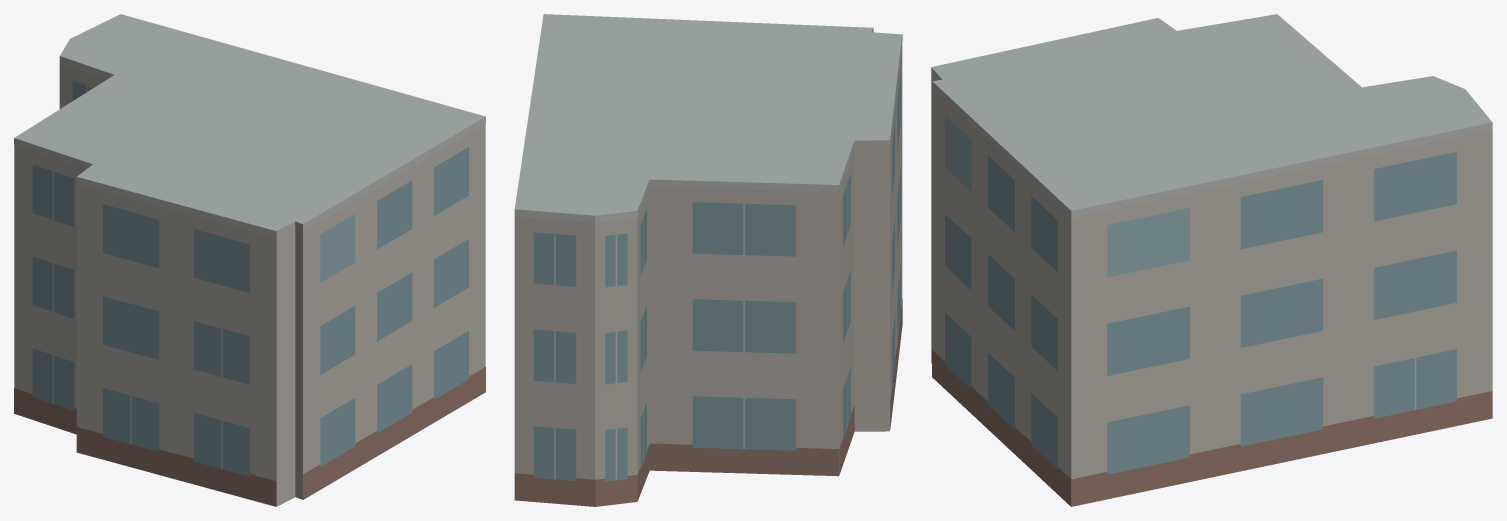
File: survey-upis-32898759.glb
The picture shows the model from 3 angles, left to right: view 1: azimuth 30°, elevation 25°; view 2: azimuth 150°, elevation 25°; view 3: azimuth 270°, elevation 25°; orthographic projection. The views are drawn at different scales.
Parts seen in each view (by area): view 1: survey-upis-32898759.tmp; view 2: survey-upis-32898759.tmp; view 3: survey-upis-32898759.tmp.
Boxes of the visible parts, x1=… form: survey-upis-32898759.tmp: x1=14, y1=14, x2=485, y2=506; survey-upis-32898759.tmp: x1=514, y1=14, x2=902, y2=506; survey-upis-32898759.tmp: x1=931, y1=14, x2=1492, y2=506.
Bounding box in the file's own units: 13.99 × 9.8 × 16.85.
